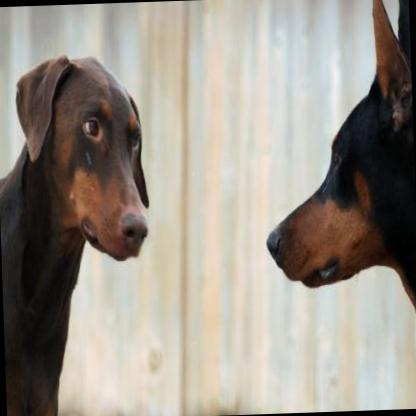Doberman: (0, 52, 155, 416), (255, 0, 416, 327)
